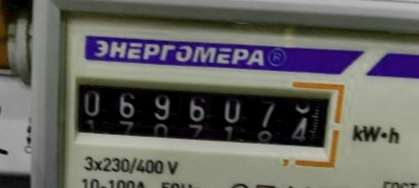0: (80, 88, 102, 119), (221, 96, 242, 126)
4: (287, 115, 308, 146)
6: (185, 94, 207, 126), (116, 91, 136, 121)
7: (256, 97, 276, 130)
9: (150, 93, 172, 123)
screen: (59, 61, 348, 171)
